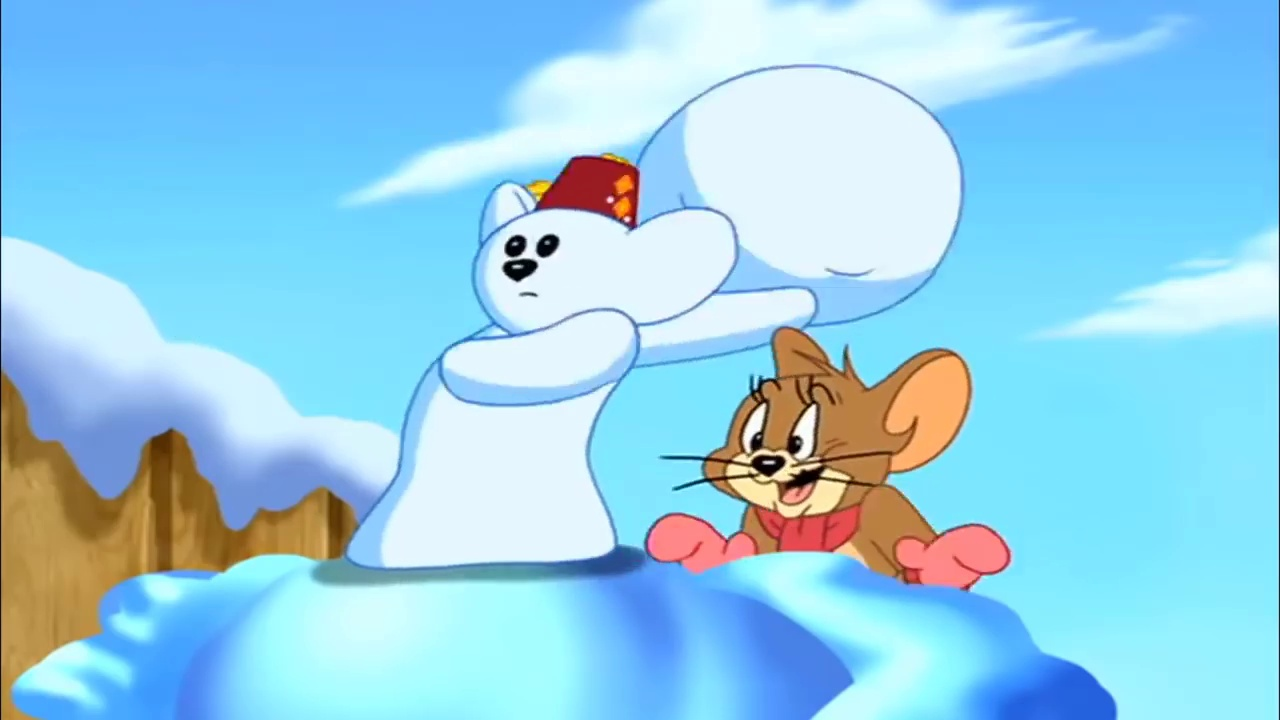face: (721, 380, 865, 521)
